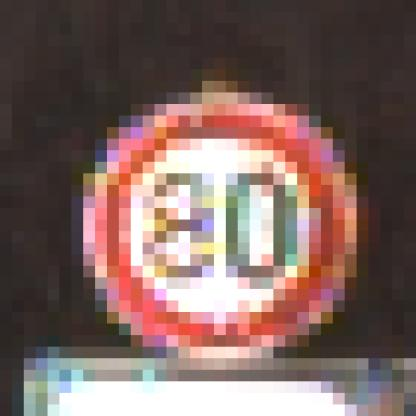Speed Limit 80: (93, 109, 348, 357)
